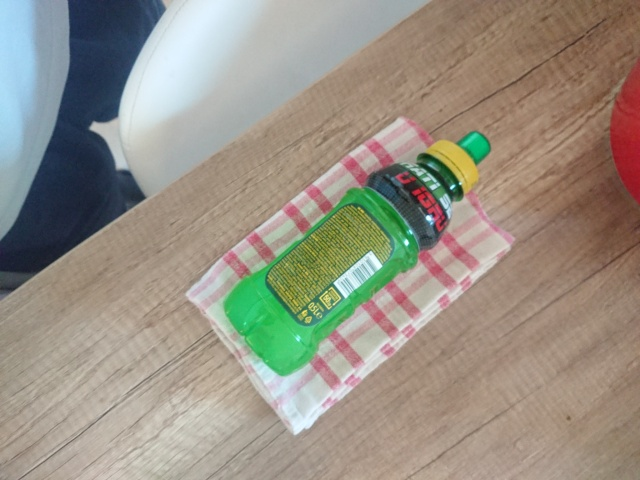Vindi Iso Sport Lemon-Grapefruit 500mL: (220, 127, 494, 379)
